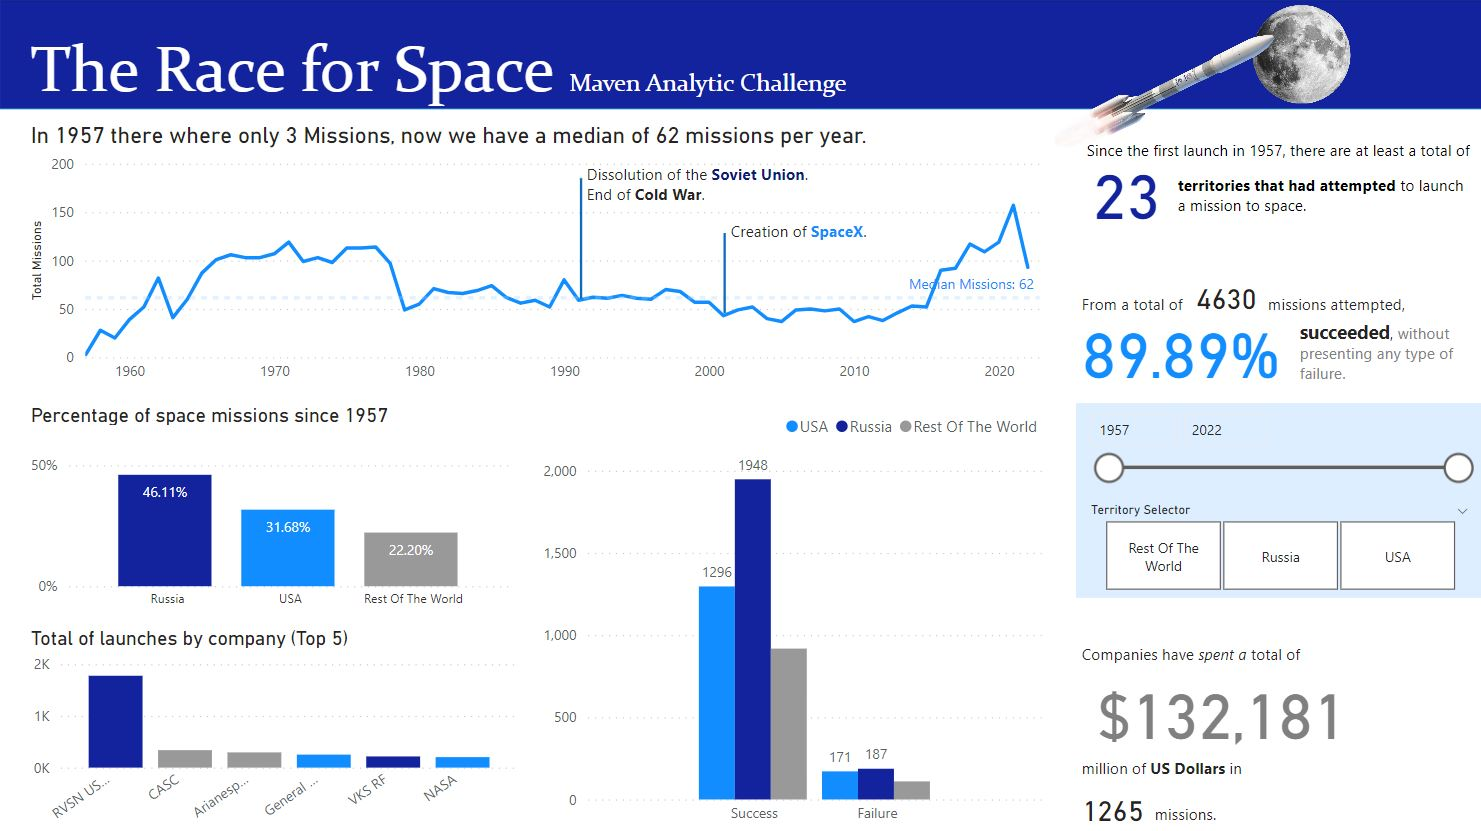

The page's visual inventory and layout, read from the dashboard file:
{"tool":"powerbi","page":{"name":"Page 1","canvas":[1280,720],"ordinal":0},"visuals":[{"type":"lineChart","title":"In 1957 there where only 3 Missions, now we have a median of 62 missions per year.","fields":{"Y":["CountNonNull(SpaceMissions.Mission)"],"Category":["Calendar Table.Date.Variation.Date Hierarchy.Year","Calendar Table.Date.Variation.Date Hierarchy.Month"]},"box":[22.4,106.1,883.2,232.9],"z":0},{"type":"card","title":"How much has the companies spend?","fields":{"Values":["Sum(SpaceMissions.Price)"]},"box":[928.9,574.5,251,75],"z":0,"group":"g3"},{"type":"shape","box":[0,0,1280,94.9],"z":1000},{"type":"card","fields":{"Values":["SpaceMissions.Count Price"]},"box":[928.9,681.8,64.3,36.2],"z":1000,"group":"g3"},{"type":"card","fields":{"Values":["CountNonNull(SpaceMissionsCountries.Country_id)"]},"box":[933.7,116.5,78.5,95.3],"z":2000,"group":"g1"},{"type":"columnChart","title":"Percentage of space missions since 1957","fields":{"Y":["CountNonNull(SpaceMissions.Mission)"],"Category":["SpaceMissionsCountries.Country_name (groups)"]},"box":[22.4,348.5,425.2,187.2],"z":2000},{"type":"textbox","box":[928.9,551.2,251,27.6],"z":2000,"group":"g3"},{"type":"slicer","fields":{"Values":["SpaceMissionsCountries.Country_name (groups)"]},"box":[928.9,429.6,351.1,87.1],"z":3000,"group":"g4"},{"type":"textbox","box":[928.9,649.9,194.4,31.9],"z":3000,"group":"g3"},{"type":"clusteredColumnChart","fields":{"Category":["SpaceMissionsStatus.MissionStatus (groups)"],"Series":["SpaceMissionsCountries.Country_name (groups)"],"Y":["CountNonNull(SpaceMissions.Company)"]},"box":[464,348.5,441.6,371.8],"z":4000},{"type":"textbox","box":[991.6,689.6,76.7,28.5],"z":4000,"group":"g3"},{"type":"group","id":"g1","title":"Group 1","box":[933.3,116.4,346.7,95.7],"z":5000},{"type":"group","id":"g2","title":"Group 2","box":[928.9,239.8,334.7,99.2],"z":6000},{"type":"card","fields":{"Values":["SpaceMissions.Total Success Perct"]},"box":[928.9,263.3,180.8,75.6],"z":6000,"group":"g2"},{"type":"textbox","box":[933.3,116.4,346.7,53.5],"z":7000,"group":"g1"},{"type":"columnChart","title":"Total of launches by company (Top 5)","fields":{"Category":["SpaceMissions.Company"],"Series":["SpaceMissionsCountries.Country_name (groups)"],"Y":["CountNonNull(SpaceMissions.Rocket)"]},"box":[22.4,540.8,431.3,179.4],"z":7000},{"type":"textbox","box":[1012.2,146.5,256.7,47.6],"z":8000,"group":"g1"},{"type":"textbox","box":[929.2,249.3,334.7,26.7],"z":8000,"group":"g2"},{"type":"group","id":"g3","title":"Group 3","box":[928.9,551.2,251,166.5],"z":8000},{"type":"card","fields":{"Values":["CountNonNull(SpaceMissions.Mission)"]},"box":[1018.9,239.8,80.2,36.2],"z":9000,"group":"g2"},{"type":"group","id":"g4","title":"Group 4","box":[928.9,348.5,351.1,168.2],"z":9000},{"type":"textbox","box":[626,186.7,146,30],"z":10000},{"type":"textbox","box":[1116.5,271.1,147.4,67.8],"z":10000,"group":"g2"},{"type":"slicer","fields":{"Values":["Calendar Table.Date.Variation.Date Hierarchy.Year"]},"box":[928.9,348.5,351.1,81.1],"z":10000,"group":"g4"},{"type":"shape","box":[587.3,201.8,77.3,69.1],"z":11000},{"type":"shape","box":[463.8,154.4,76.2,103.8],"z":12000},{"type":"textbox","box":[501.8,137.3,231.8,64.5],"z":13000},{"type":"textbox","box":[22.7,21.8,779.1,94.5],"z":13001},{"type":"image","box":[1049.1,0,148.2,94.5],"z":13002},{"type":"image","box":[901.8,16.4,204.5,126.4],"z":13003}]}

Visuals, with their boxes in screenshot pixels (x1, y1, x2, y2), scaled from the page's 1280x720 canvas onto the 1481x831 screenshot:
"In 1957 there where only 3 Missions, now we have a median of 62 missions per year." lineChart: (26, 122, 1048, 391)
"How much has the companies spend?" card: (1075, 663, 1365, 750)
shape: (0, 0, 1480, 110)
card - SpaceMissions.Count Price: (1075, 787, 1149, 829)
card - CountNonNull(SpaceMissionsCountries.Country_id): (1080, 134, 1171, 244)
"Percentage of space missions since 1957" columnChart: (26, 402, 518, 618)
textbox: (1075, 636, 1365, 668)
slicer - SpaceMissionsCountries.Country_name (groups): (1075, 496, 1480, 596)
textbox: (1075, 750, 1300, 787)
clusteredColumnChart - SpaceMissionsStatus.MissionStatus (groups) x SpaceMissionsCountries.Country_name (groups): (537, 402, 1048, 830)
textbox: (1147, 796, 1236, 829)
"Group 1" group: (1080, 134, 1480, 245)
"Group 2" group: (1075, 277, 1462, 391)
card - SpaceMissions.Total Success Perct: (1075, 304, 1284, 391)
textbox: (1080, 134, 1480, 196)
"Total of launches by company (Top 5)" columnChart: (26, 624, 525, 830)
textbox: (1171, 169, 1468, 224)
textbox: (1075, 288, 1462, 319)
"Group 3" group: (1075, 636, 1365, 828)
card - CountNonNull(SpaceMissions.Mission): (1179, 277, 1272, 319)
"Group 4" group: (1075, 402, 1480, 596)
textbox: (724, 215, 893, 250)
textbox: (1292, 313, 1462, 391)
slicer - Calendar Table.Date.Variation.Date Hierarchy.Year: (1075, 402, 1480, 496)
shape: (680, 233, 769, 313)
shape: (537, 178, 625, 298)
textbox: (581, 158, 849, 233)
textbox: (26, 25, 928, 134)
image: (1214, 0, 1385, 109)
image: (1043, 19, 1280, 165)
